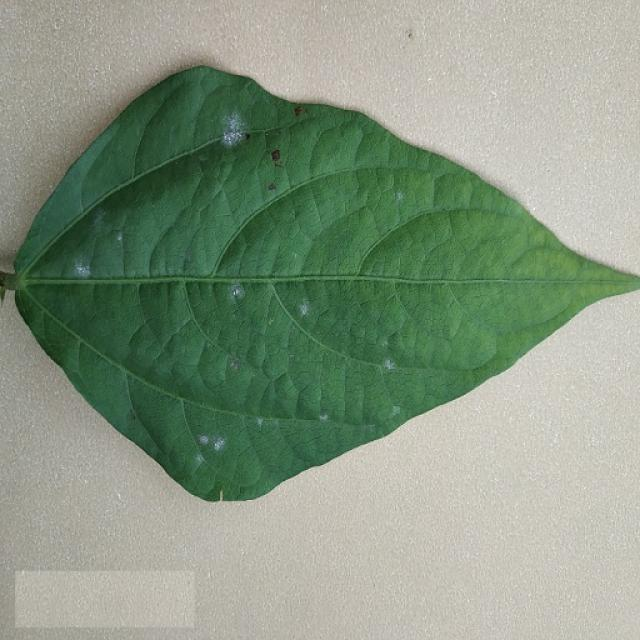Blackgram: (0, 66, 639, 500)
Powdery_Mildew: (209, 278, 280, 373), (216, 111, 250, 149), (270, 149, 285, 170), (92, 209, 107, 227), (75, 262, 90, 277), (230, 285, 244, 299), (214, 438, 226, 451), (294, 105, 307, 116), (363, 424, 376, 435), (299, 302, 309, 316), (384, 359, 396, 370), (230, 358, 241, 370), (198, 435, 209, 445), (391, 405, 401, 416), (183, 251, 192, 263), (195, 454, 204, 465), (128, 410, 137, 420), (318, 413, 328, 421), (115, 232, 123, 242), (381, 338, 389, 348), (114, 490, 122, 500), (396, 192, 404, 201), (256, 418, 264, 427), (268, 182, 276, 190)
